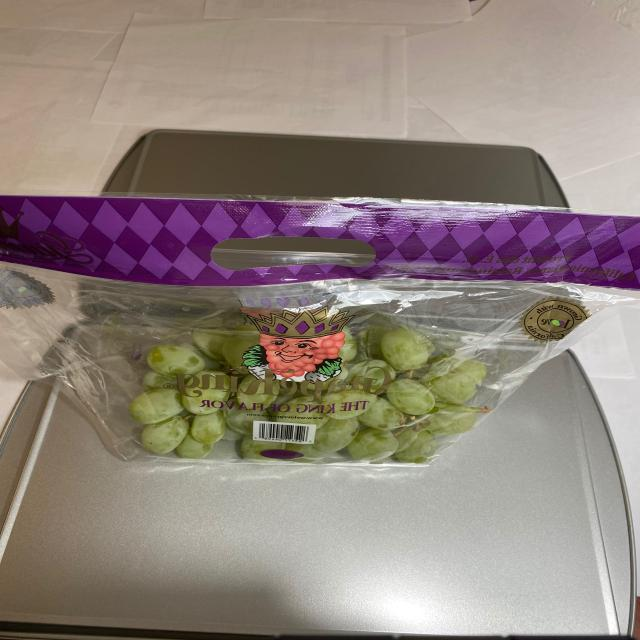grapes: (108, 319, 490, 466)
